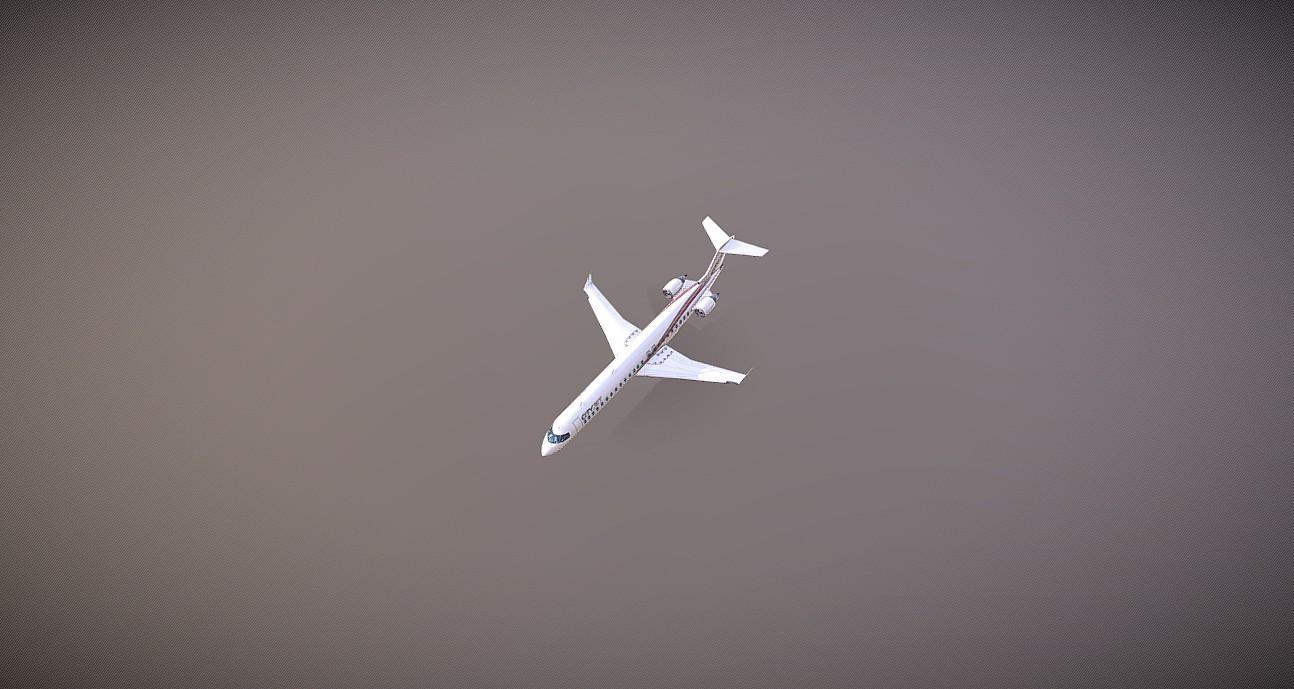Airplane: (539, 214, 768, 458)
